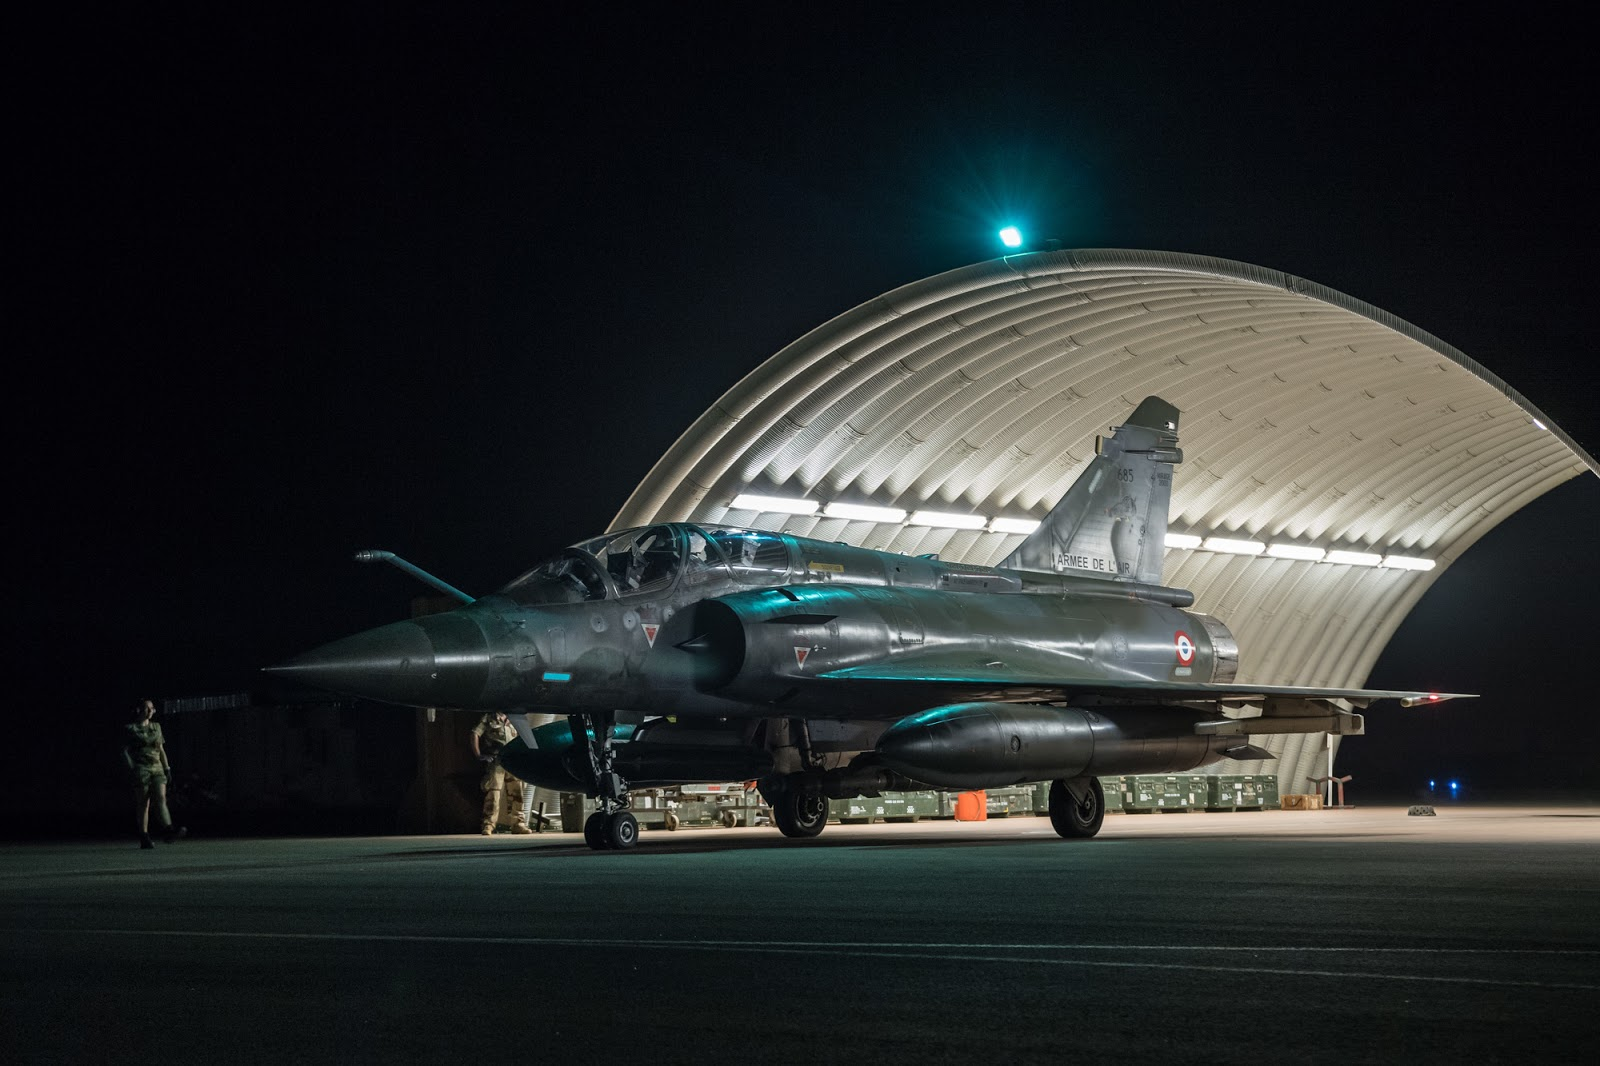Mirage2000: (261, 395, 1482, 849)
